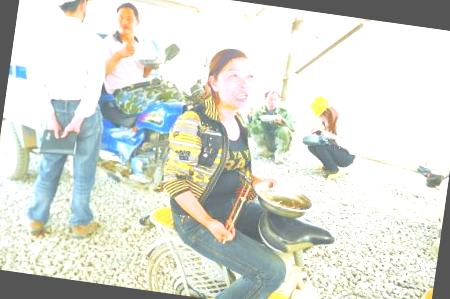no_helmet: (198, 42, 263, 111), (109, 0, 143, 41), (260, 84, 284, 113)
